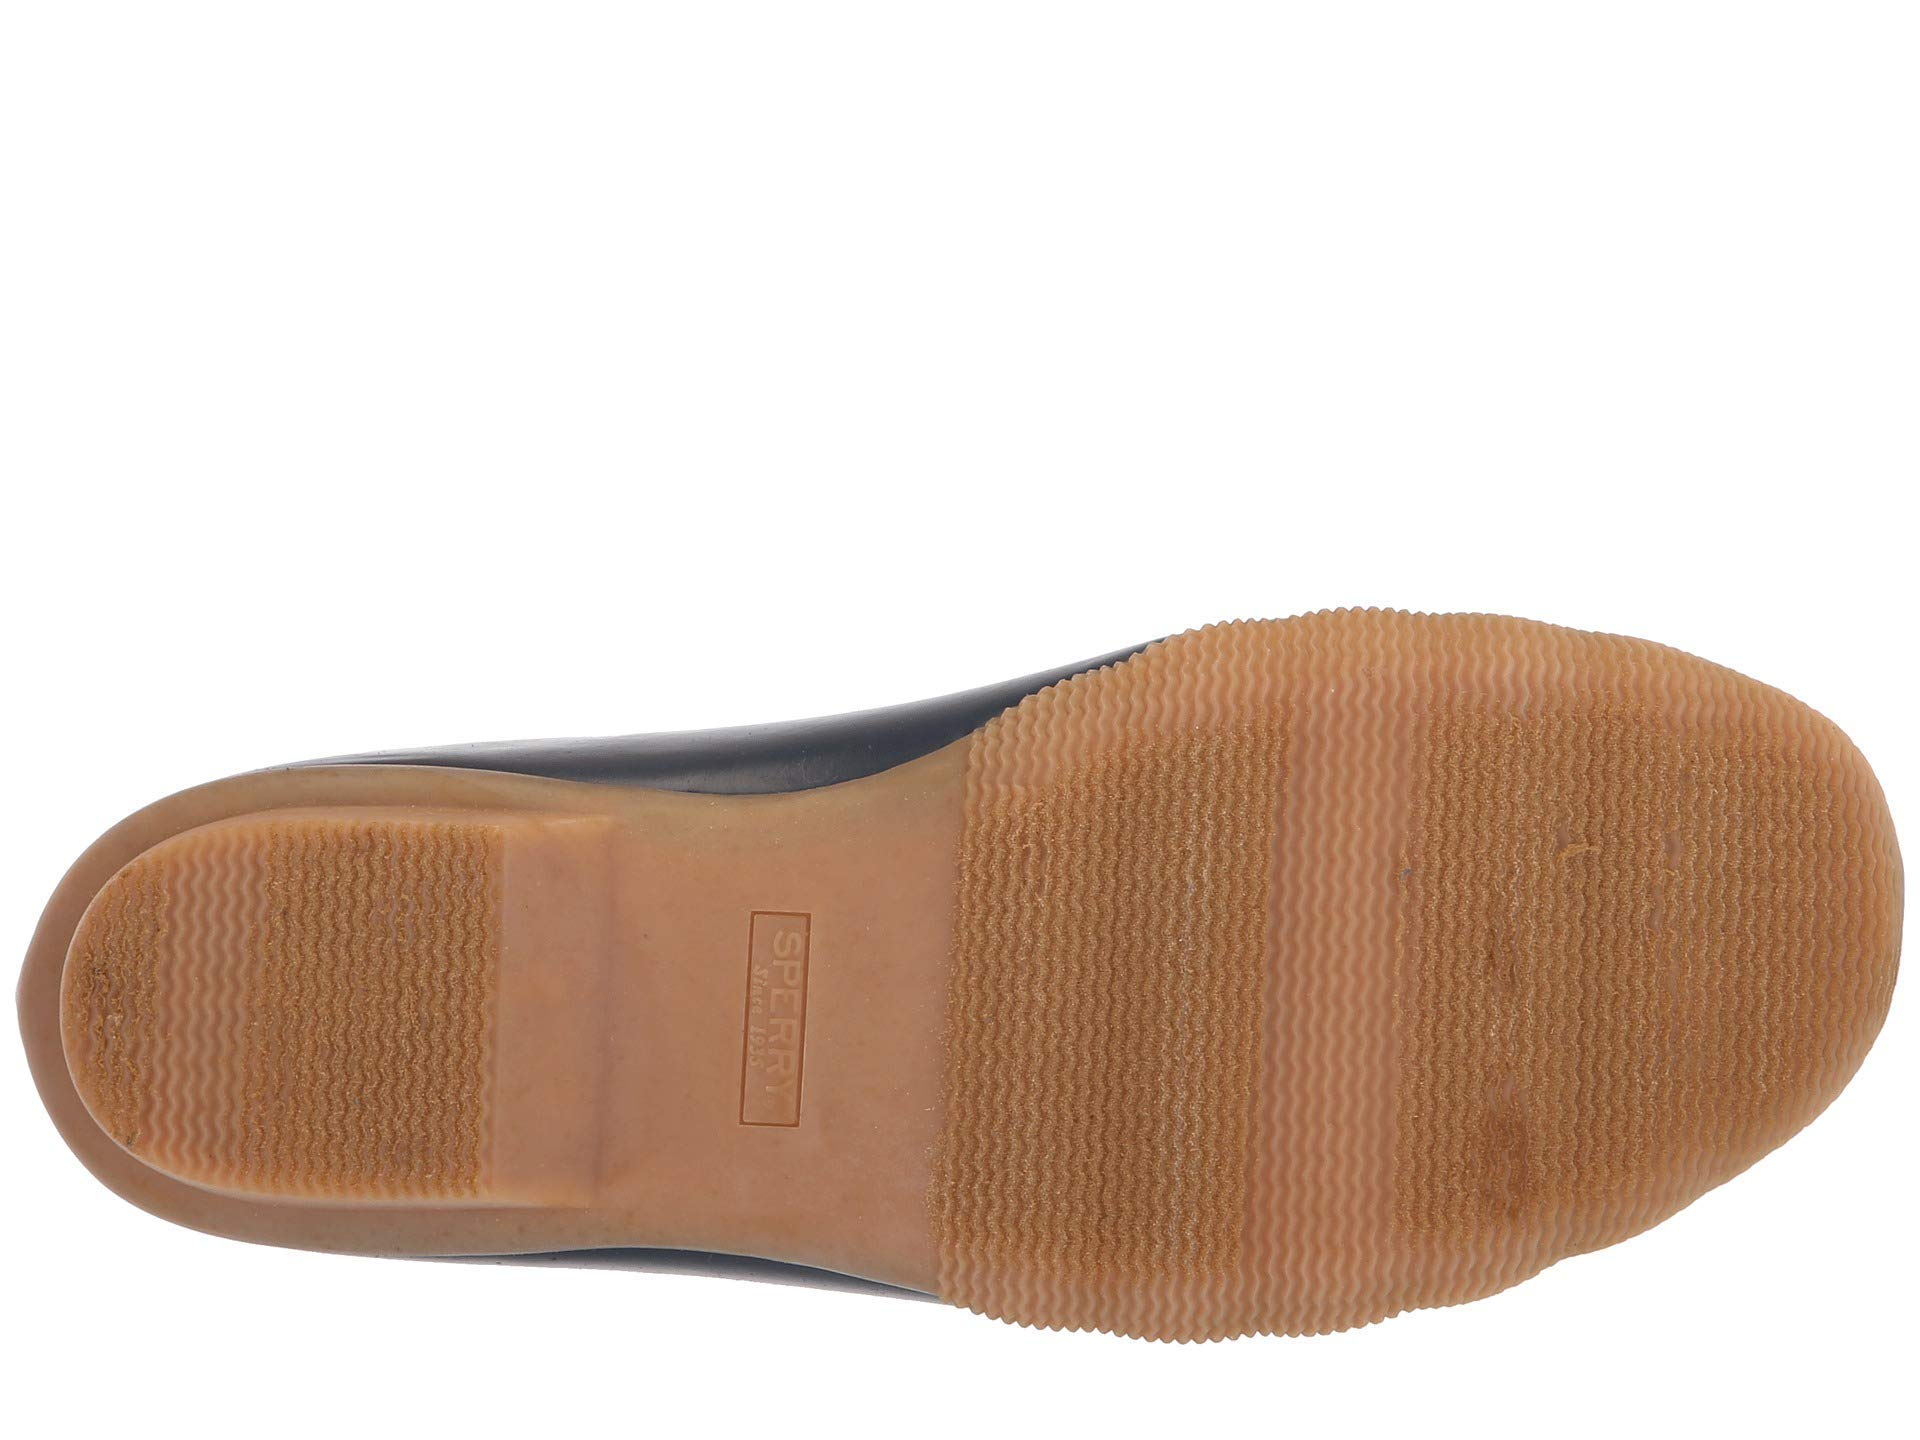chevron: (1073, 761, 1460, 1240), (168, 874, 426, 1133)
quad: (701, 883, 850, 1150)
text: (701, 883, 850, 1150)
